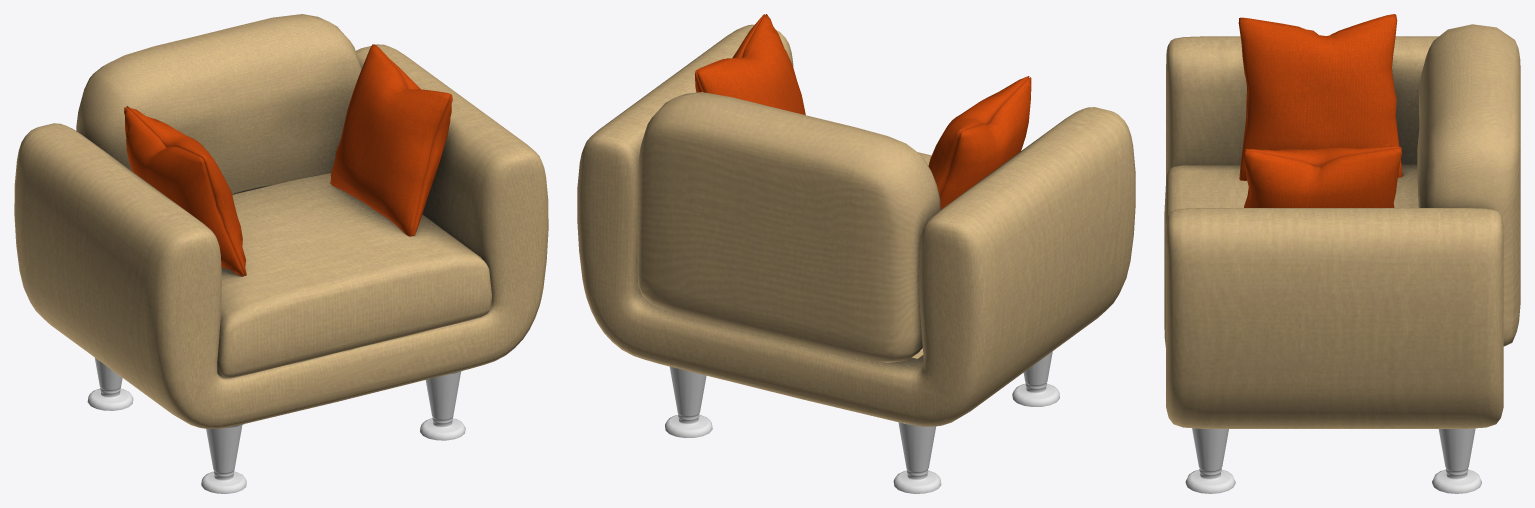
File: Light_Brown_Cloth_Standalone_1K.glb
3 renders of one model, left to right at view 1: azimuth 30°, elevation 25°; view 2: azimuth 150°, elevation 25°; view 3: azimuth 270°, elevation 25°, orthographic. The views are drawn at different scales.
Parts seen in each view (by area): view 1: Sofa_1_Back_L, Pillow_1, Pillow_1.001, Sofa_1_Leg_3, Sofa_1_Leg_2, Sofa_1_Leg_4; view 2: Sofa_1_Back_L, Pillow_1.001, Pillow_1, Sofa_1_Leg_4, Sofa_1_Leg_1, Sofa_1_Leg_3; view 3: Sofa_1_Back_L, Pillow_1.001, Pillow_1, Sofa_1_Leg_2, Sofa_1_Leg_1.
Boxes of the visible parts, bbox=[...] form: Sofa_1_Back_L: bbox=[14, 14, 548, 428]; Pillow_1: bbox=[330, 44, 452, 236]; Pillow_1.001: bbox=[124, 106, 246, 276]; Sofa_1_Leg_3: bbox=[201, 424, 246, 493]; Sofa_1_Leg_2: bbox=[420, 370, 465, 440]; Sofa_1_Leg_4: bbox=[87, 358, 133, 410]; Sofa_1_Back_L: bbox=[577, 24, 1135, 426]; Pillow_1.001: bbox=[928, 76, 1031, 209]; Pillow_1: bbox=[695, 14, 805, 115]; Sofa_1_Leg_4: bbox=[893, 422, 941, 493]; Sofa_1_Leg_1: bbox=[665, 366, 712, 437]; Sofa_1_Leg_3: bbox=[1012, 351, 1059, 406]; Sofa_1_Back_L: bbox=[1164, 24, 1520, 428]; Pillow_1.001: bbox=[1238, 14, 1402, 180]; Pillow_1: bbox=[1243, 146, 1401, 207]; Sofa_1_Leg_2: bbox=[1185, 428, 1235, 493]; Sofa_1_Leg_1: bbox=[1432, 428, 1481, 493].
Size of the model in its own units: 1.16 by 0.9251 by 0.836.
Materials: 3 (2 with a texture image).
